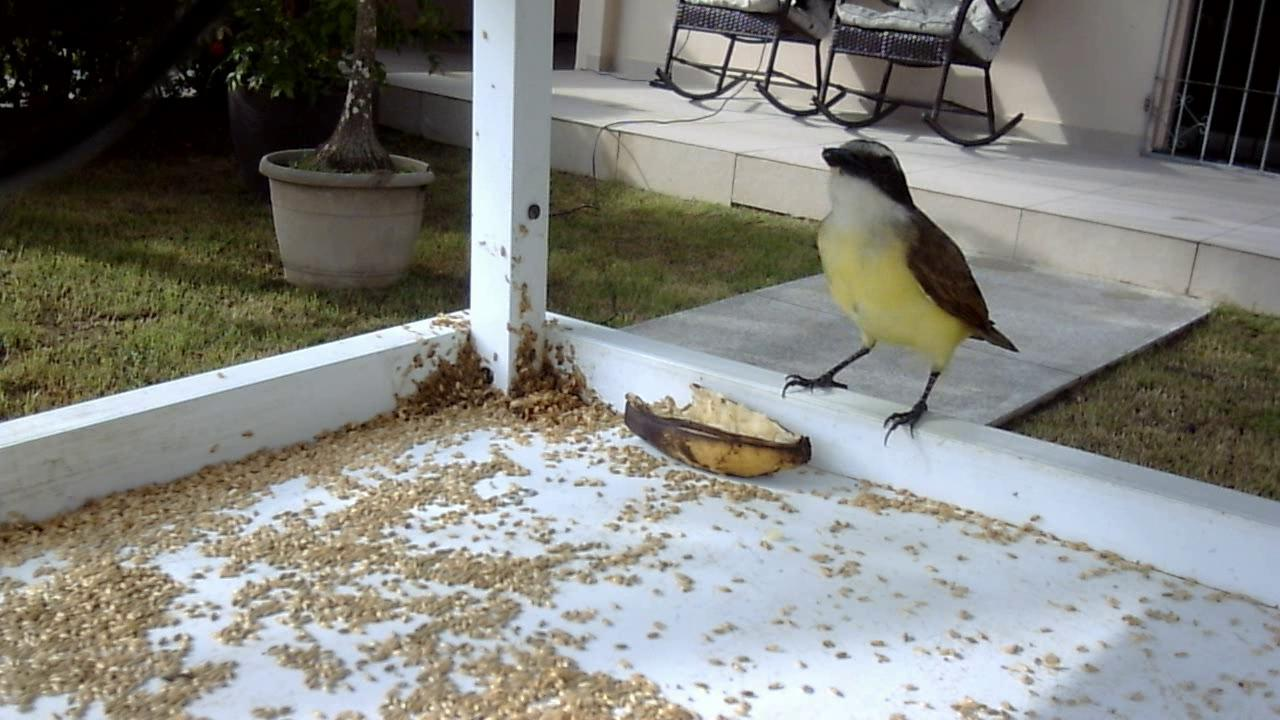bem_te_vi: (762, 127, 1029, 464)
